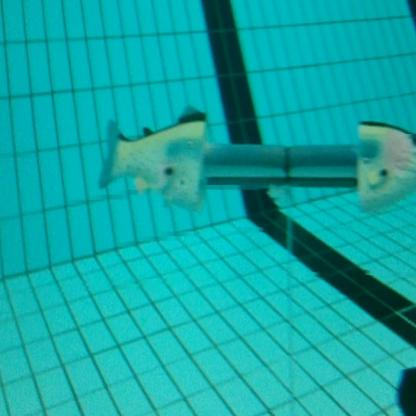tail: (96, 106, 215, 219)
